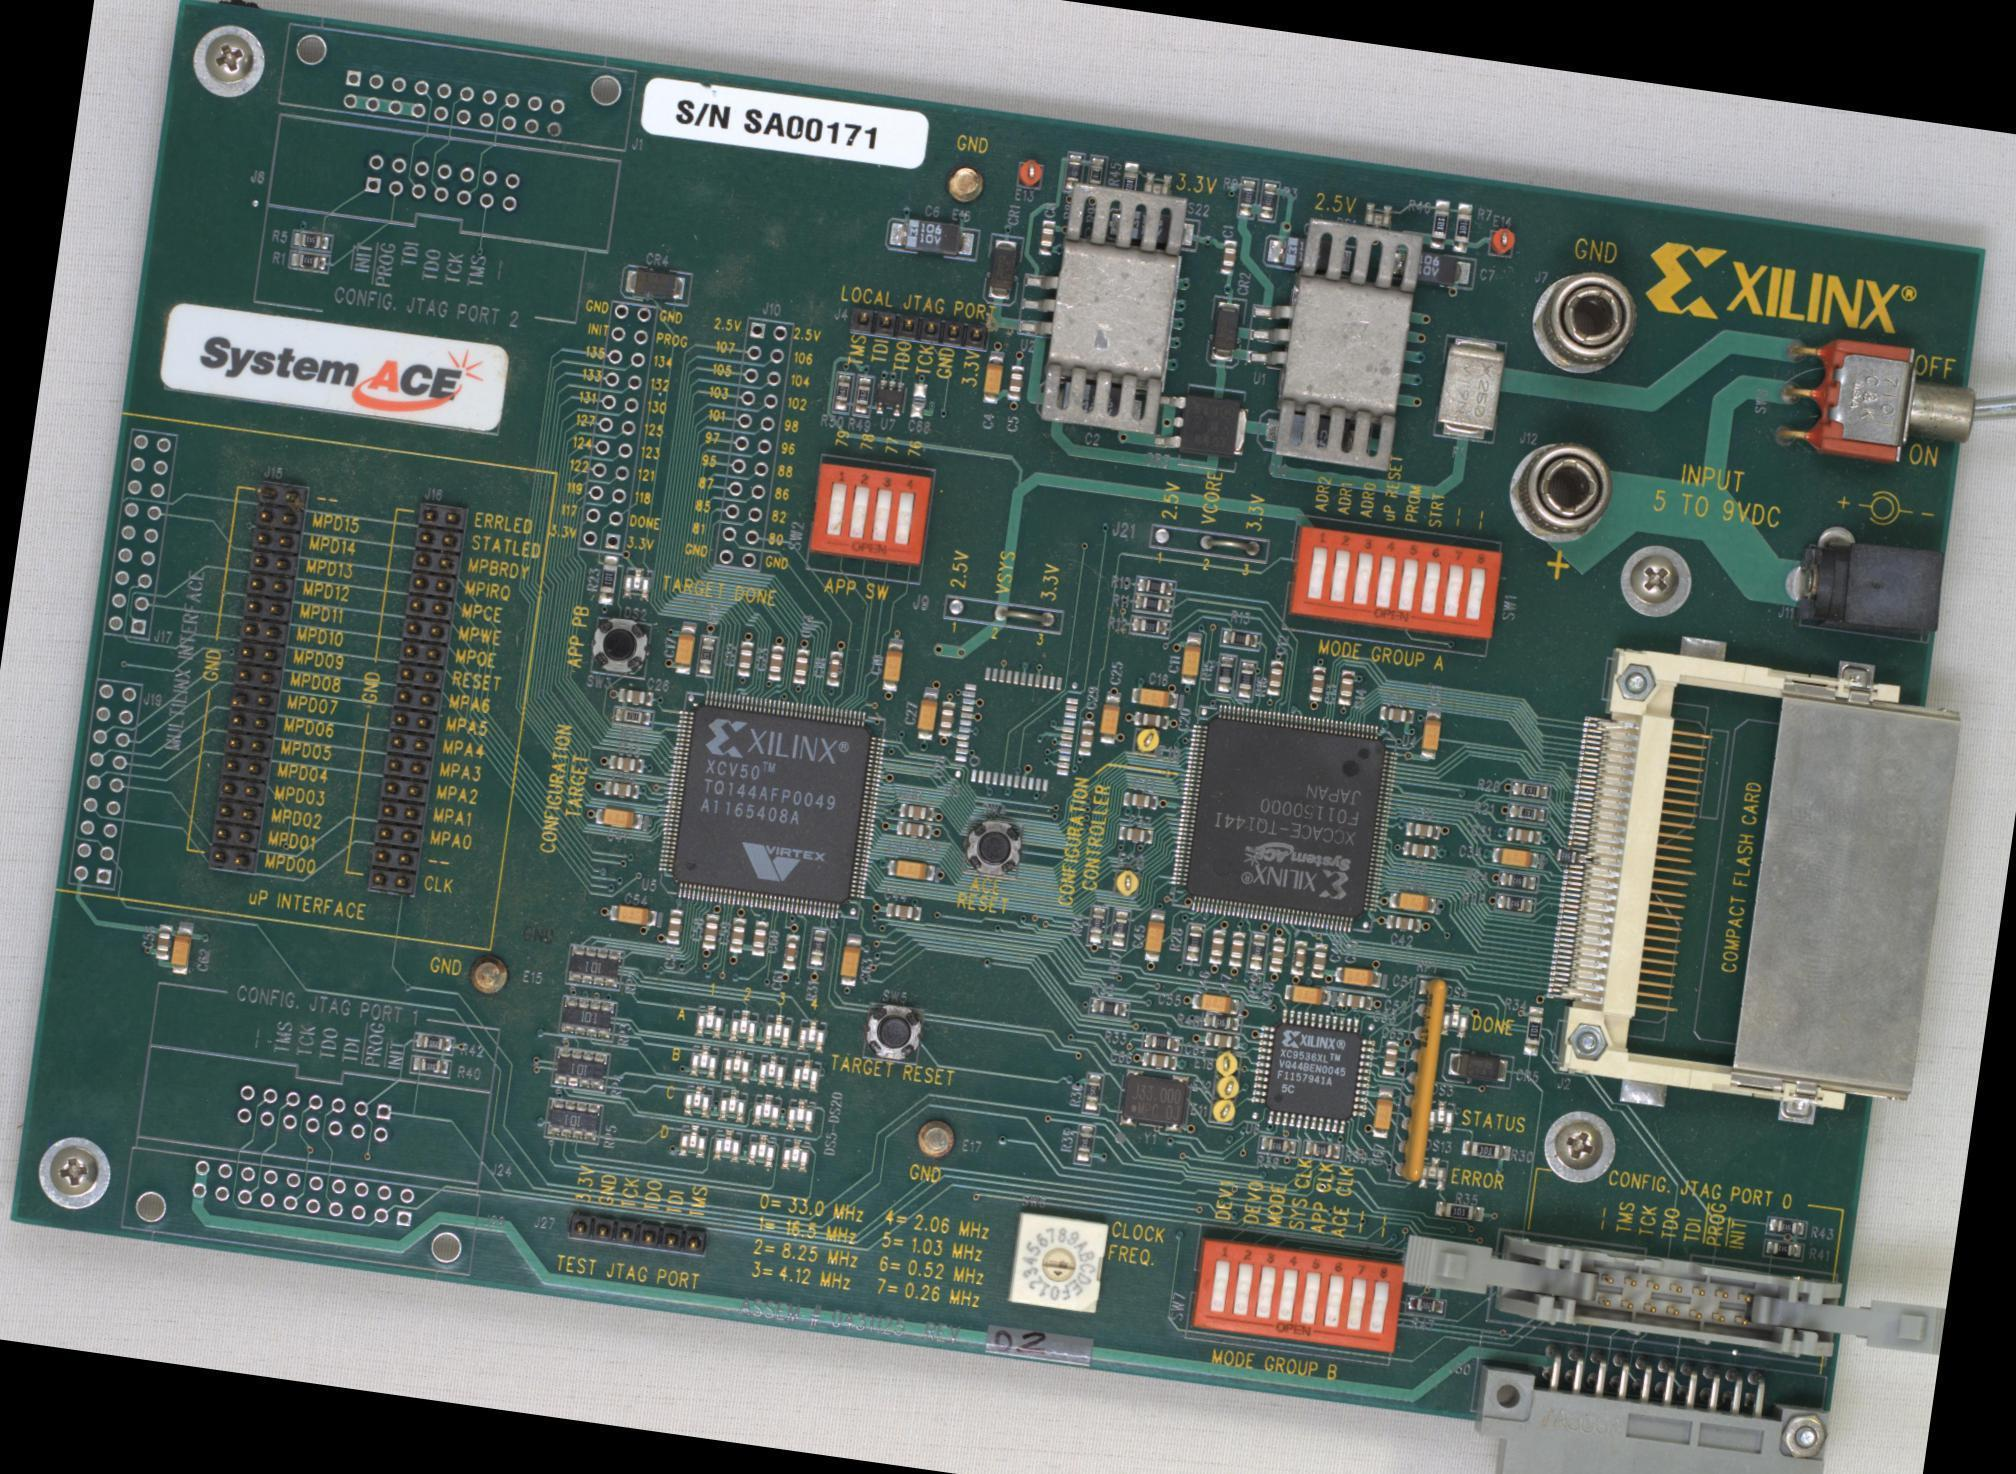Button: (859, 999, 925, 1065), (588, 614, 653, 679), (961, 817, 1024, 880)
Capacitor: (1402, 819, 1441, 840), (1400, 838, 1438, 860), (766, 643, 785, 682), (791, 646, 810, 685), (935, 698, 955, 737), (1075, 717, 1095, 756), (1203, 1030, 1240, 1051), (1306, 665, 1325, 703), (1376, 704, 1414, 724), (824, 648, 843, 686), (734, 641, 755, 679), (1132, 709, 1169, 729), (615, 687, 653, 707), (1116, 823, 1154, 844), (894, 819, 932, 839), (1206, 926, 1226, 964), (883, 900, 921, 920), (154, 923, 173, 961), (1036, 219, 1056, 257), (1264, 657, 1284, 696), (1227, 929, 1246, 968), (1309, 941, 1328, 979), (1288, 938, 1307, 977), (664, 906, 683, 945), (750, 919, 769, 957), (780, 933, 799, 971), (1380, 1038, 1399, 1076), (607, 753, 643, 773), (898, 801, 935, 821), (1267, 935, 1286, 972), (1335, 668, 1354, 706), (1504, 825, 1542, 844), (1121, 791, 1159, 810), (1385, 914, 1422, 933), (700, 912, 719, 950), (727, 916, 745, 953), (1139, 1051, 1177, 1070), (1219, 238, 1238, 276), (603, 780, 639, 798), (1336, 990, 1373, 1009), (1005, 364, 1024, 401)
Connector: (1537, 615, 1983, 1137), (1396, 1215, 1948, 1379), (1463, 1328, 1839, 1473), (362, 503, 467, 896), (203, 479, 308, 872), (1790, 530, 1948, 648), (715, 319, 789, 569), (579, 301, 653, 551), (337, 68, 568, 140), (185, 1159, 414, 1230), (1522, 260, 1642, 379), (104, 431, 172, 637), (1500, 431, 1618, 549), (70, 682, 137, 885), (355, 145, 525, 215), (232, 1080, 396, 1143), (566, 1210, 708, 1256), (848, 306, 989, 352)
Electrolytic Capacitor: (1253, 407, 1373, 465), (1033, 377, 1143, 431), (1260, 232, 1352, 278), (886, 214, 976, 257), (1388, 247, 1476, 290), (615, 262, 692, 307), (1108, 206, 1196, 246), (980, 229, 1024, 306), (1444, 1048, 1510, 1087), (1209, 301, 1241, 364), (1179, 632, 1204, 689), (672, 619, 697, 676), (837, 931, 863, 987), (1097, 689, 1121, 746), (915, 684, 939, 741), (980, 349, 1004, 405), (879, 637, 903, 692), (885, 858, 935, 882), (168, 925, 193, 975), (1418, 705, 1442, 759), (1370, 1088, 1393, 1139), (1129, 687, 1178, 710), (592, 806, 642, 830), (1141, 912, 1164, 962), (1490, 845, 1539, 868), (1387, 890, 1436, 914), (1282, 984, 1330, 1007), (608, 903, 656, 927), (1191, 991, 1238, 1014), (1332, 965, 1381, 988)
IC: (652, 685, 889, 924), (1166, 700, 1399, 937), (1244, 269, 1437, 420), (1015, 234, 1194, 384), (1246, 1005, 1377, 1137), (952, 662, 1083, 794), (1430, 333, 1508, 446), (872, 378, 904, 416), (1142, 169, 1172, 196)
Led: (620, 564, 652, 601), (728, 1007, 760, 1043), (788, 1056, 820, 1092), (755, 1052, 787, 1088), (716, 1087, 748, 1123), (783, 1097, 815, 1133), (744, 1133, 776, 1169), (711, 1128, 743, 1164), (1439, 1002, 1470, 1038), (693, 1003, 725, 1039), (760, 1013, 792, 1049), (795, 1018, 827, 1054), (721, 1048, 753, 1084), (687, 1043, 719, 1079), (749, 1092, 781, 1128), (682, 1084, 714, 1120), (676, 1123, 708, 1159), (779, 1138, 811, 1174), (1427, 1099, 1455, 1136), (1419, 1156, 1448, 1191), (1363, 203, 1392, 231)
Pads: (910, 381, 929, 419), (939, 593, 969, 620), (1147, 522, 1175, 549)
Resistor: (558, 995, 615, 1040), (566, 944, 623, 989), (551, 1045, 608, 1090), (543, 1097, 600, 1142), (1450, 201, 1473, 254), (596, 553, 619, 607), (1522, 1004, 1544, 1057), (1459, 1139, 1510, 1161), (1428, 198, 1450, 250), (1432, 1200, 1483, 1222), (1259, 1135, 1302, 1158), (1132, 592, 1171, 613), (1134, 577, 1173, 598), (1129, 615, 1168, 636), (1183, 923, 1203, 963), (1200, 1011, 1239, 1031), (1215, 654, 1234, 694), (614, 707, 651, 727), (1142, 1033, 1180, 1053), (410, 1055, 448, 1075), (292, 230, 330, 250), (1235, 660, 1254, 700), (1509, 781, 1548, 800), (1497, 871, 1536, 890), (1110, 908, 1128, 946), (1088, 905, 1106, 943), (1088, 998, 1127, 1017), (1303, 1140, 1341, 1160), (1763, 1239, 1801, 1258), (1405, 1295, 1444, 1315), (1063, 152, 1082, 191), (1237, 178, 1256, 217), (833, 373, 851, 411), (1218, 629, 1256, 648), (697, 637, 715, 675), (1507, 802, 1545, 822), (808, 928, 826, 966), (1767, 1217, 1805, 1236), (413, 1032, 451, 1052), (289, 252, 327, 271), (1496, 892, 1533, 911), (1247, 931, 1265, 970), (1075, 1123, 1093, 1162), (1083, 1073, 1101, 1111), (1259, 181, 1276, 219), (853, 375, 871, 413), (1119, 160, 1138, 191), (1087, 157, 1103, 185), (1555, 847, 1576, 863)
Switch: (1769, 328, 2015, 484), (1186, 1235, 1406, 1355), (1285, 522, 1504, 642), (807, 461, 933, 569)
Transistor: (1152, 389, 1249, 459)
